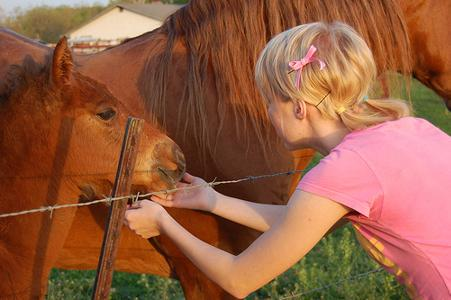person: (121, 23, 450, 300)
